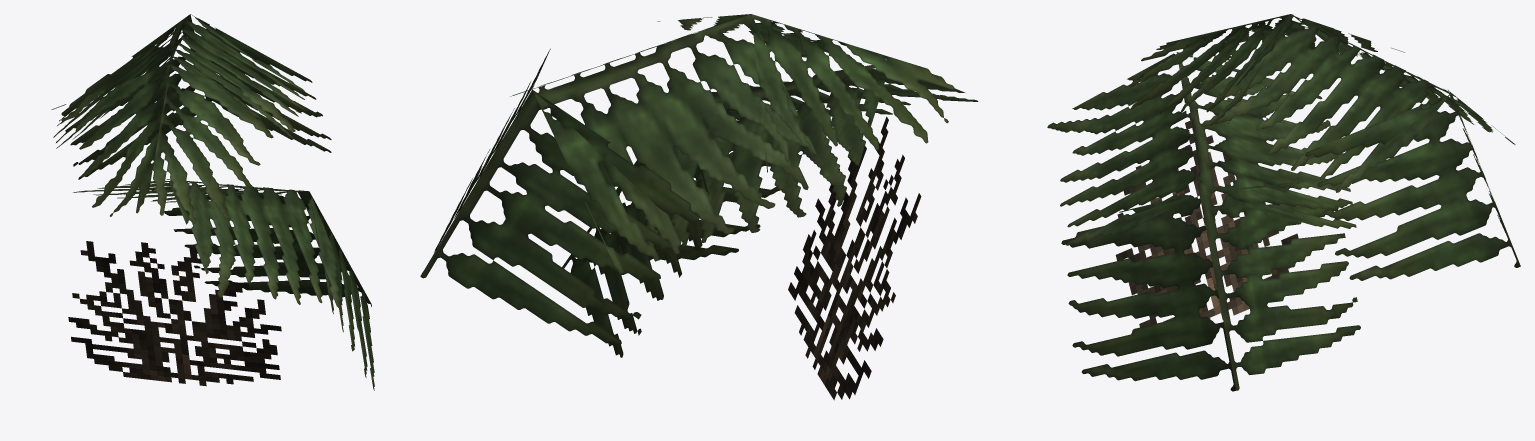
File: caribbean_royal_palm_corner_1.obj
3 renders of one model, left to right at view 1: azimuth 30°, elevation 25°; view 2: azimuth 150°, elevation 25°; view 3: azimuth 270°, elevation 25°, orthographic. The views are drawn at different scales.
Parts seen in each view (by area): view 1: cube.299; view 2: cube.299; view 3: cube.299.
Part boxes in pixels (x1=…): cube.299: x1=51, y1=14, x2=374, y2=390; cube.299: x1=420, y1=14, x2=978, y2=400; cube.299: x1=1047, y1=14, x2=1520, y2=391.
Bounding box in the file's own units: 2.74 × 2.28 × 2.94.
